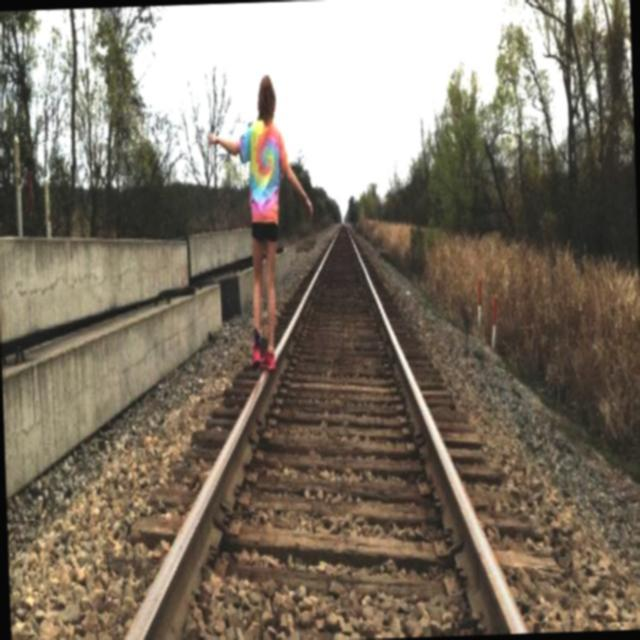danger: (208, 72, 313, 373)
rail: (45, 222, 585, 640)
